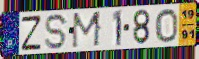1: (111, 9, 124, 47)
8: (132, 9, 151, 46)
M: (70, 10, 103, 50)
O: (154, 8, 179, 44)
S: (44, 13, 70, 51)
Z: (20, 14, 42, 53)
